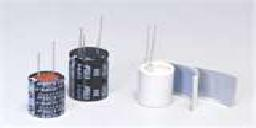Electrolytic-Capacitor: (135, 21, 241, 115), (20, 30, 65, 122), (70, 13, 113, 107)
